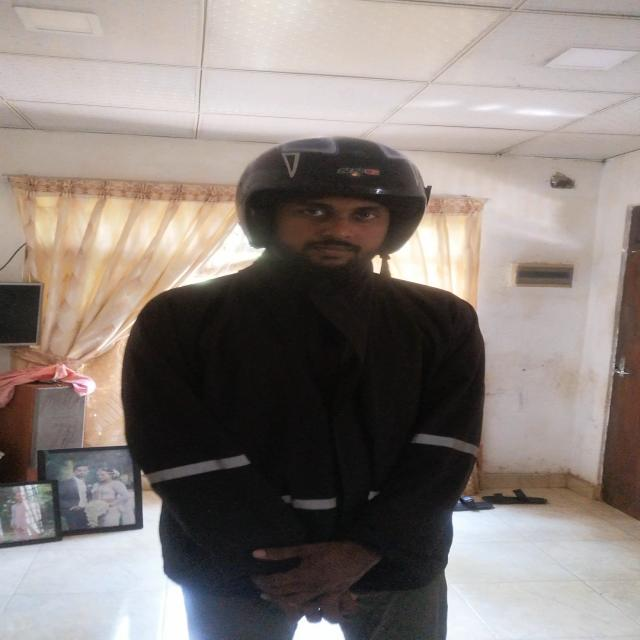Helmet_Wearer: (215, 128, 434, 291)
Jacket_Wearer: (105, 258, 482, 598)
Person: (104, 128, 483, 640)
